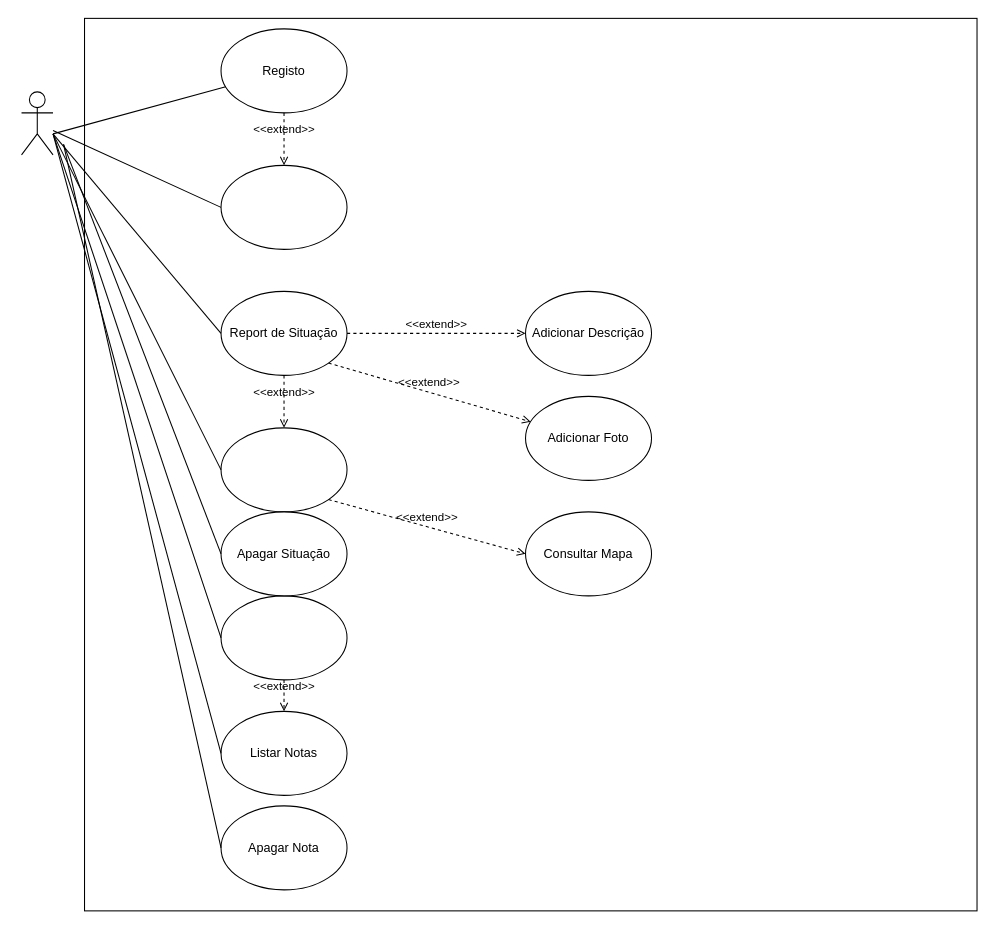
This 995x929 diagram has some shape labels left out. Each missing label, with the centre of its shape:
Adicionar Nota: the point at 283,637
Cliente: the point at 36,123
Listar Reports: the point at 283,469
Login: the point at 283,206
